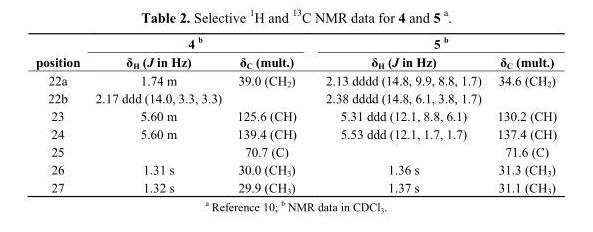table: (34, 34, 556, 195)
table column: (310, 34, 488, 195), (87, 34, 228, 195), (228, 34, 310, 195), (488, 34, 556, 195), (34, 34, 87, 195)
table column header: (34, 34, 556, 71)
table row: (34, 52, 556, 71), (34, 34, 556, 52), (34, 71, 556, 89), (34, 106, 556, 124), (34, 124, 556, 142), (34, 142, 556, 160), (34, 160, 556, 178), (34, 89, 556, 106), (34, 178, 556, 195)
table spanning cell: (310, 34, 556, 52), (87, 34, 310, 52), (34, 34, 87, 71)
